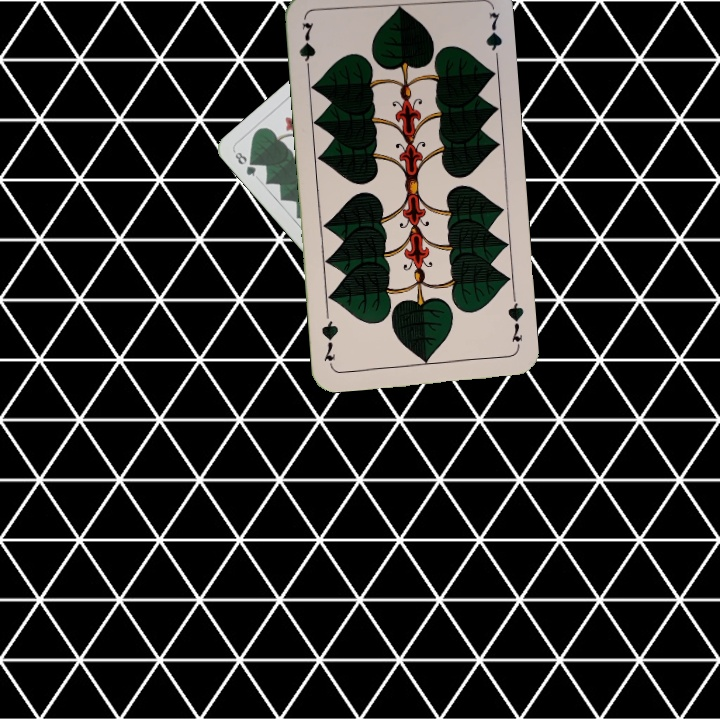G7: (295, 18, 318, 77), (504, 293, 526, 352)
G8: (231, 148, 259, 179)
